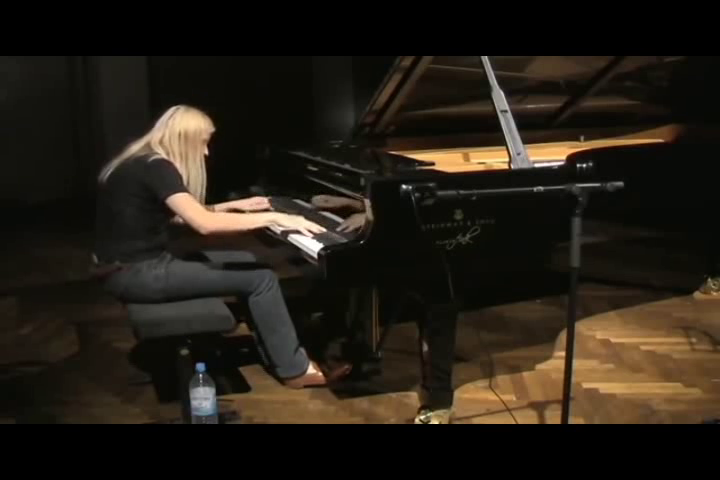keyboard: (219, 183, 356, 270)
